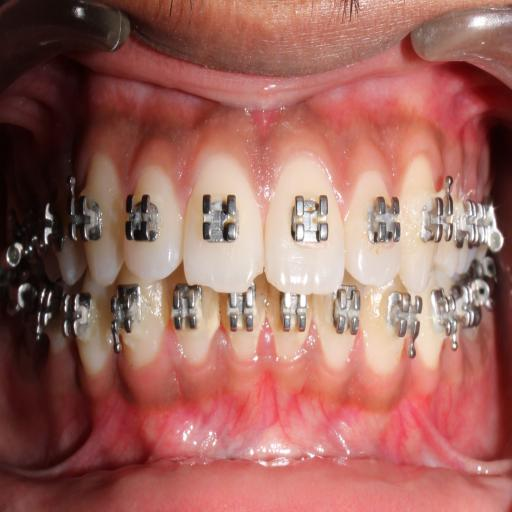correct_brace: (287, 176, 334, 254), (197, 180, 246, 254), (364, 186, 400, 260), (127, 188, 165, 248)
incorrect_brace: (346, 166, 402, 283), (124, 162, 180, 279)
